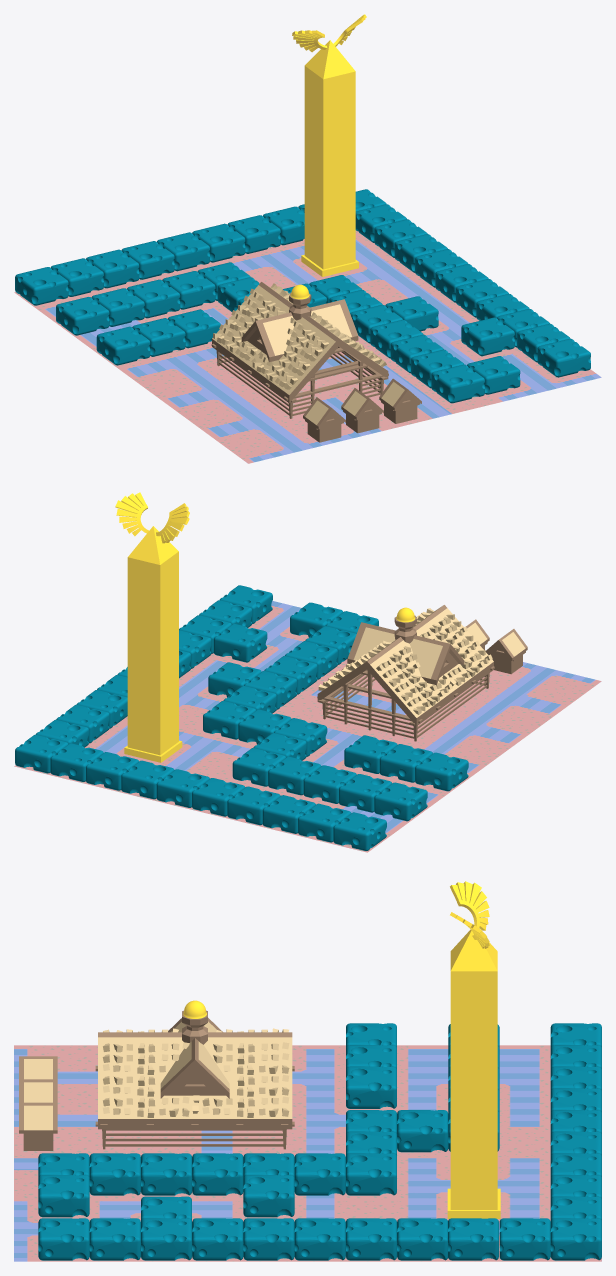
The model's file is palace_diorama8.fbx.
3 views of the same model, one above another, from view 1: azimuth 30°, elevation 25°; view 2: azimuth 150°, elevation 25°; view 3: azimuth 270°, elevation 25° (orthographic). The views are drawn at different scales.
Visible parts, largest first — view 1: hedges, floor, structure_wood, monument_winged, outhouses; view 2: hedges, floor, structure_wood, monument_winged, outhouses; view 3: hedges, floor, structure_wood, monument_winged, outhouses.
Part boxes in pixels (x1,y1,x2,y2): hedges: (15,189,590,403); floor: (14,230,601,463); structure_wood: (211,282,388,418); monument_winged: (292,14,366,276); outhouses: (303,378,421,442); hedges: (15,585,468,850); floor: (14,601,601,852); structure_wood: (317,605,494,741); monument_winged: (115,492,189,762); outhouses: (466,619,527,674); hedges: (38,1023,601,1260); floor: (14,1045,601,1261); structure_wood: (95,1000,294,1149); monument_winged: (447,881,500,1218); outhouses: (19,1056,57,1150).
Size of the model in its own units: 92.34 by 61.5 by 106.
Materials: 5 (1 with a texture image).
